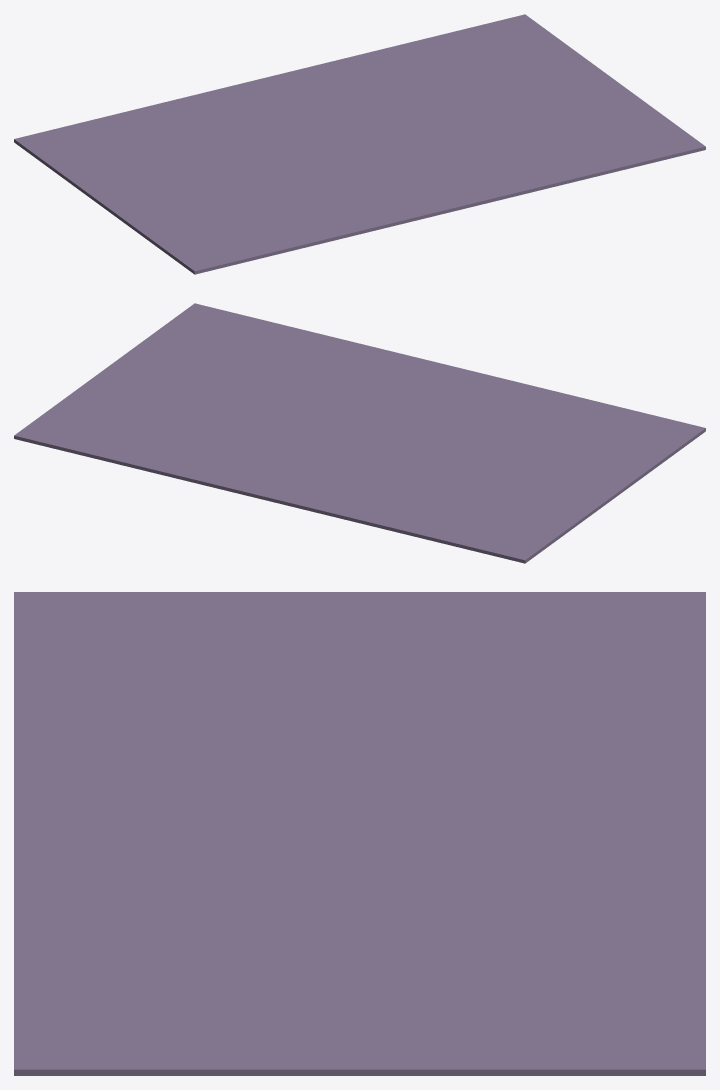
File: Ceiling02.fbx
The picture shows the model from 3 angles, top to bottom: view 1: azimuth 30°, elevation 25°; view 2: azimuth 150°, elevation 25°; view 3: azimuth 270°, elevation 25°; orthographic projection. The views are drawn at different scales.
Parts seen in each view (by area): view 1: Roof_Emission; view 2: Roof_Emission; view 3: Roof_Emission.
Part boxes in pixels (x1=…): Roof_Emission: x1=14, y1=14, x2=705, y2=274; Roof_Emission: x1=14, y1=303, x2=705, y2=563; Roof_Emission: x1=14, y1=592, x2=705, y2=1075.
Bounding box in the file's own units: 702 × 4.37 × 430.
